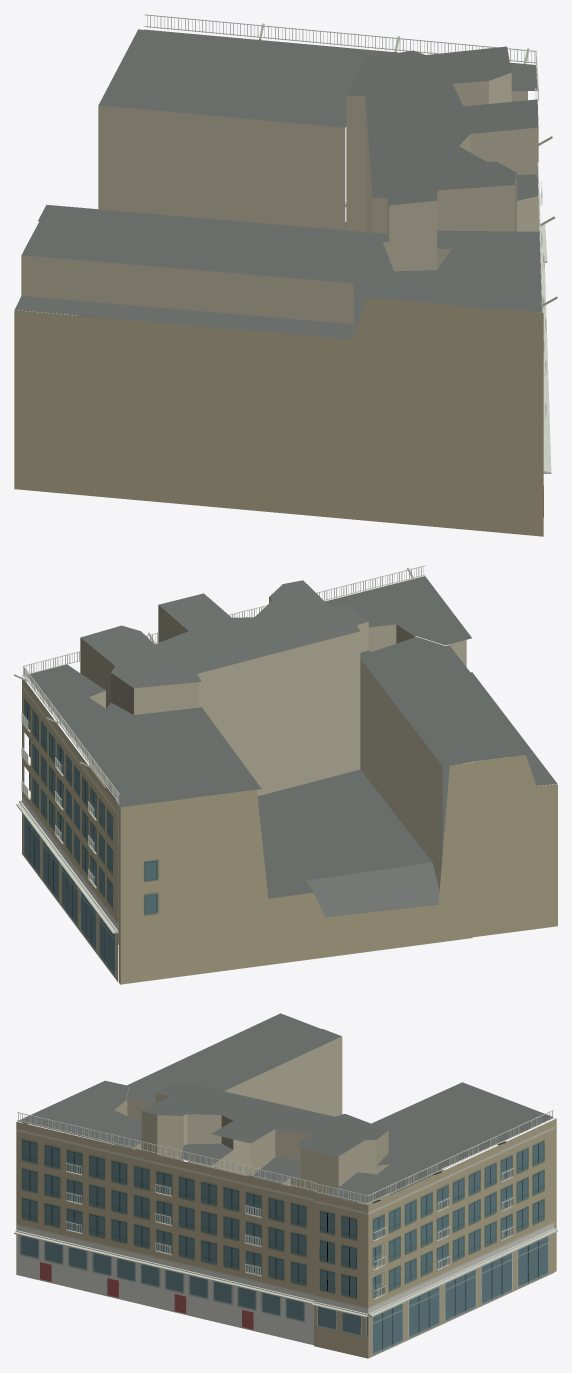
The picture shows the model from 3 angles, top to bottom: view 1: azimuth 30°, elevation 25°; view 2: azimuth 150°, elevation 25°; view 3: azimuth 270°, elevation 25°; orthographic projection. The views are drawn at different scales.
Visible parts, largest first — view 1: 0363100012165204; view 2: 0363100012165204; view 3: 0363100012165204.
Part boxes in pixels (x1,y1,x2,y2): 0363100012165204: [14, 14, 557, 536]; 0363100012165204: [14, 565, 557, 984]; 0363100012165204: [14, 1013, 557, 1358].
Bounding box in the file's own units: 45.3 × 19.47 × 51.49.
3 materials, 1 textured.
